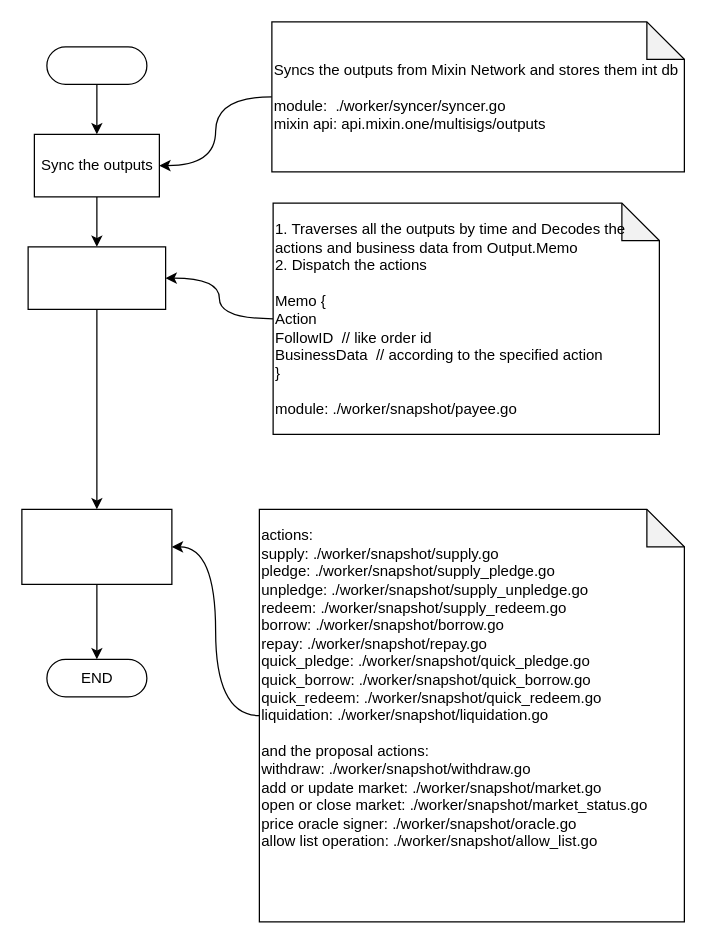
Image size: 706x944. Some labels were removed from this diagram. The shapes that lost their labels are listed below. From the top down, each one's centre as x and y in pixels, then its label:
At point (96, 65): "START".
At point (96, 277): "Dispatch the actions".
At point (96, 546): "Action Processing".
